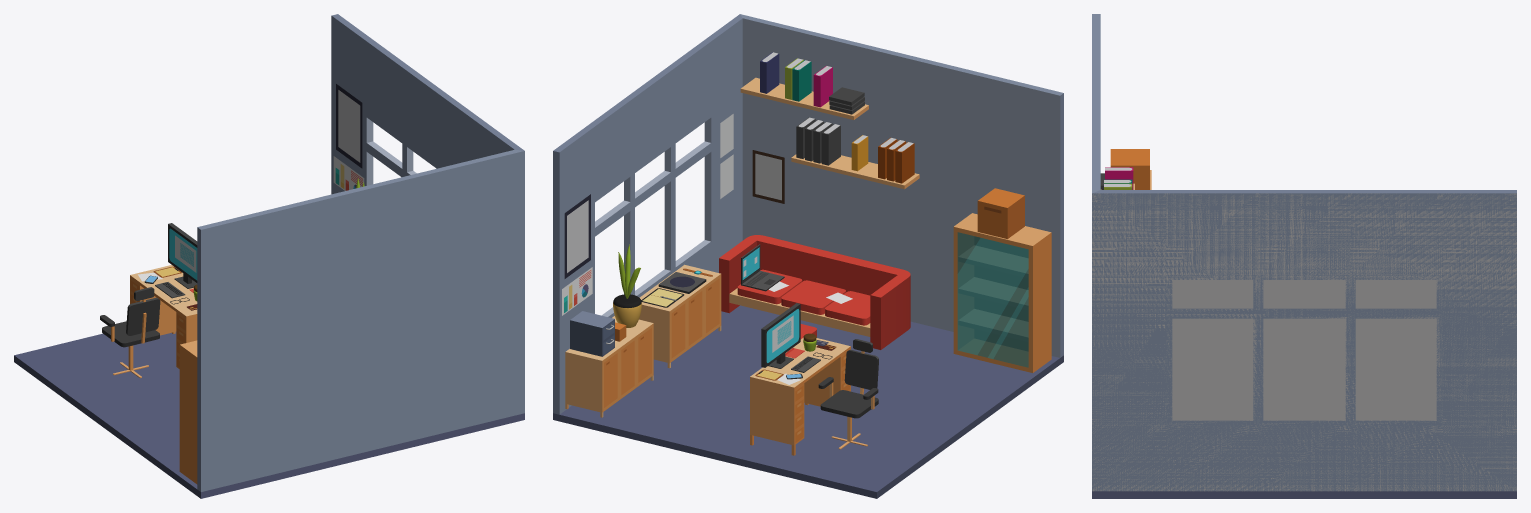
Rendered from ISR1.glb.
3 views of the same model, side by side, from view 1: azimuth 30°, elevation 25°; view 2: azimuth 150°, elevation 25°; view 3: azimuth 270°, elevation 25° (orthographic). The views are drawn at different scales.
Visible parts, largest first — view 1: Room, Furniture_2, Desk_1, Chair_1, Picture_1, Monitor_1, Graphics_1; view 2: Room, Furniture_2, Sofa_1, Desk_1, Furniture_1, Furniture_1__1_, Chair_1, box_1, Monitor_1, Picture_1, Box_2, Picture_3 (+12 smaller); view 3: Room, box_1.
Boxes of the visible parts, x1,y1,x2,y2 form: Room: [14, 14, 524, 498]; Furniture_2: [179, 340, 197, 484]; Desk_1: [130, 265, 197, 368]; Chair_1: [100, 287, 160, 378]; Picture_1: [336, 84, 362, 168]; Monitor_1: [168, 223, 197, 288]; Graphics_1: [333, 156, 364, 190]; Room: [553, 14, 1063, 498]; Furniture_2: [953, 213, 1051, 372]; Sofa_1: [719, 235, 910, 349]; Desk_1: [750, 337, 850, 455]; Furniture_1: [565, 316, 653, 417]; Furniture_1__1_: [639, 264, 721, 368]; Chair_1: [818, 339, 878, 449]; box_1: [977, 188, 1024, 238]; Monitor_1: [761, 303, 800, 368]; Picture_1: [564, 194, 590, 278]; Box_2: [570, 311, 614, 356]; Picture_3: [752, 150, 784, 203]; Room: [1092, 14, 1516, 498]; box_1: [1110, 149, 1149, 189].
Bounding box in the file's own units: 8 × 6.35 × 8.
9 materials, 2 textured.
